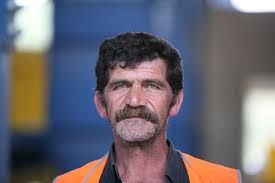no-mask: (90, 30, 187, 144)
